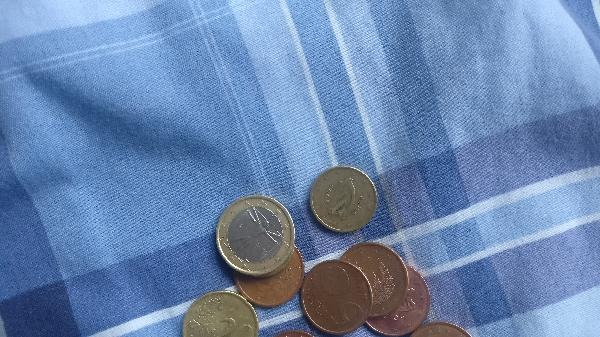Five Cent: (335, 244, 407, 319), (303, 263, 370, 334), (230, 245, 305, 304), (370, 266, 429, 333)
One Euro: (217, 195, 295, 275)
Ten Cent: (306, 163, 377, 227)
Twenty Cent: (182, 291, 257, 337)
